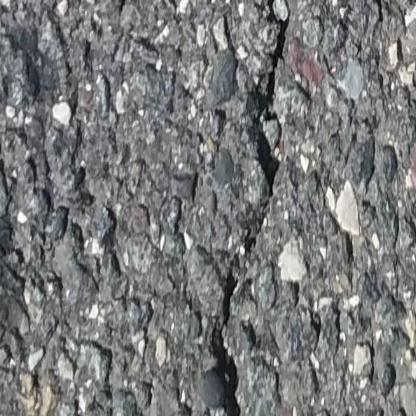Cracks: (240, 0, 297, 256), (207, 267, 249, 416)
